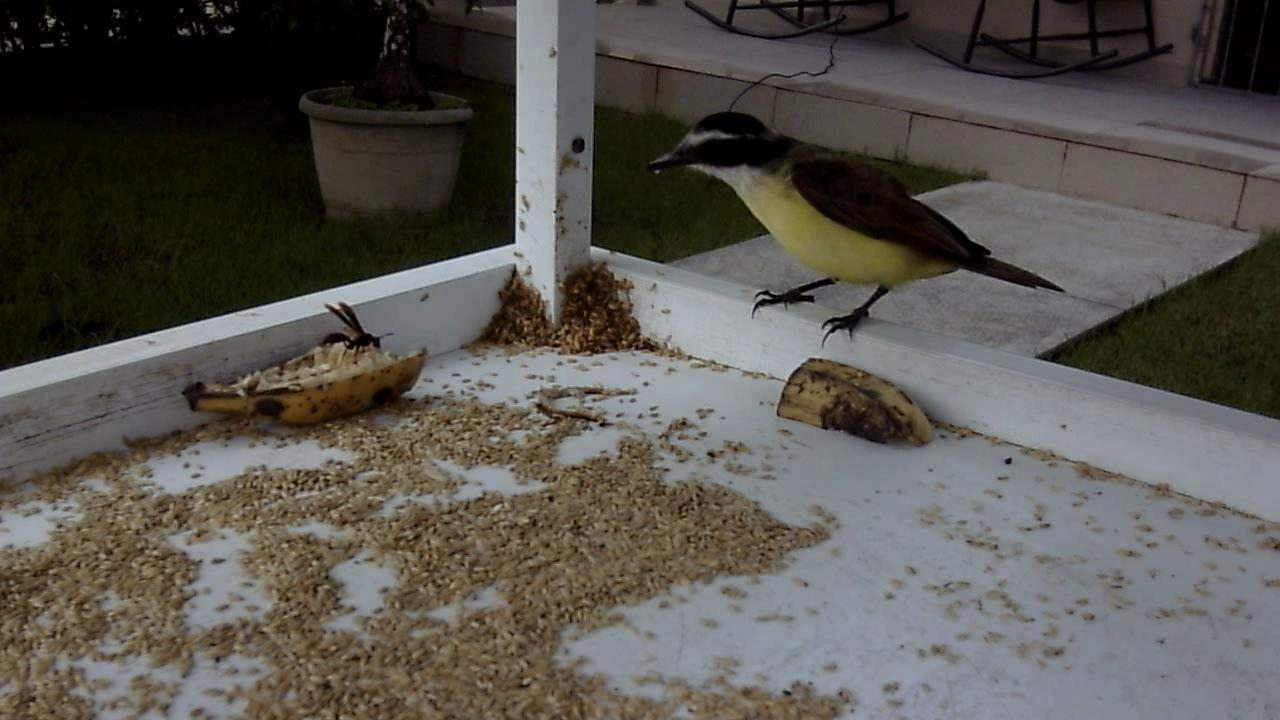bem_te_vi: (628, 89, 1075, 371)
